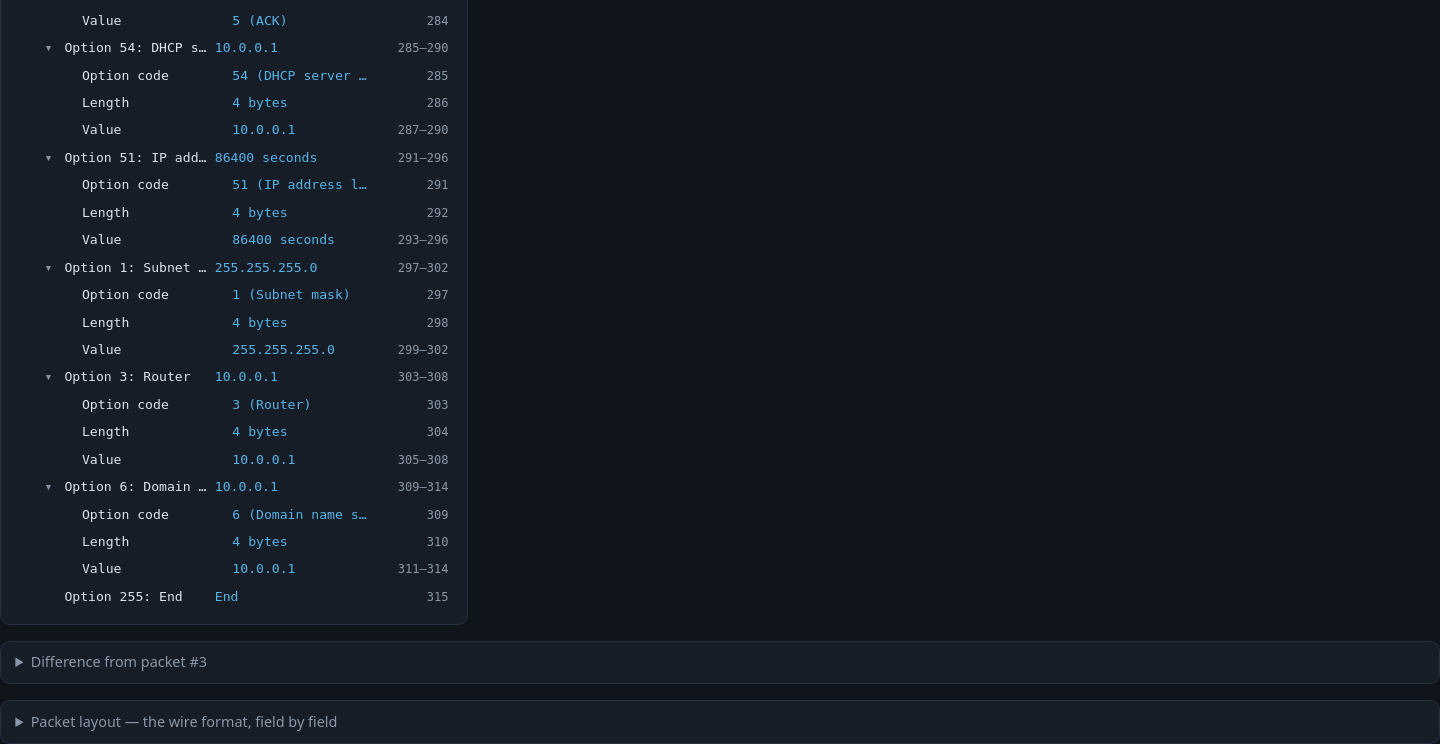
Test case: the DHCP lesson › reads the offered address out of the ACK, not out of the lesson file
(page scrolled)
Click the heading "Difference from packet #3".
click(119, 662)  # box left=31, top=652, right=207, bottom=671
(page scrolled)
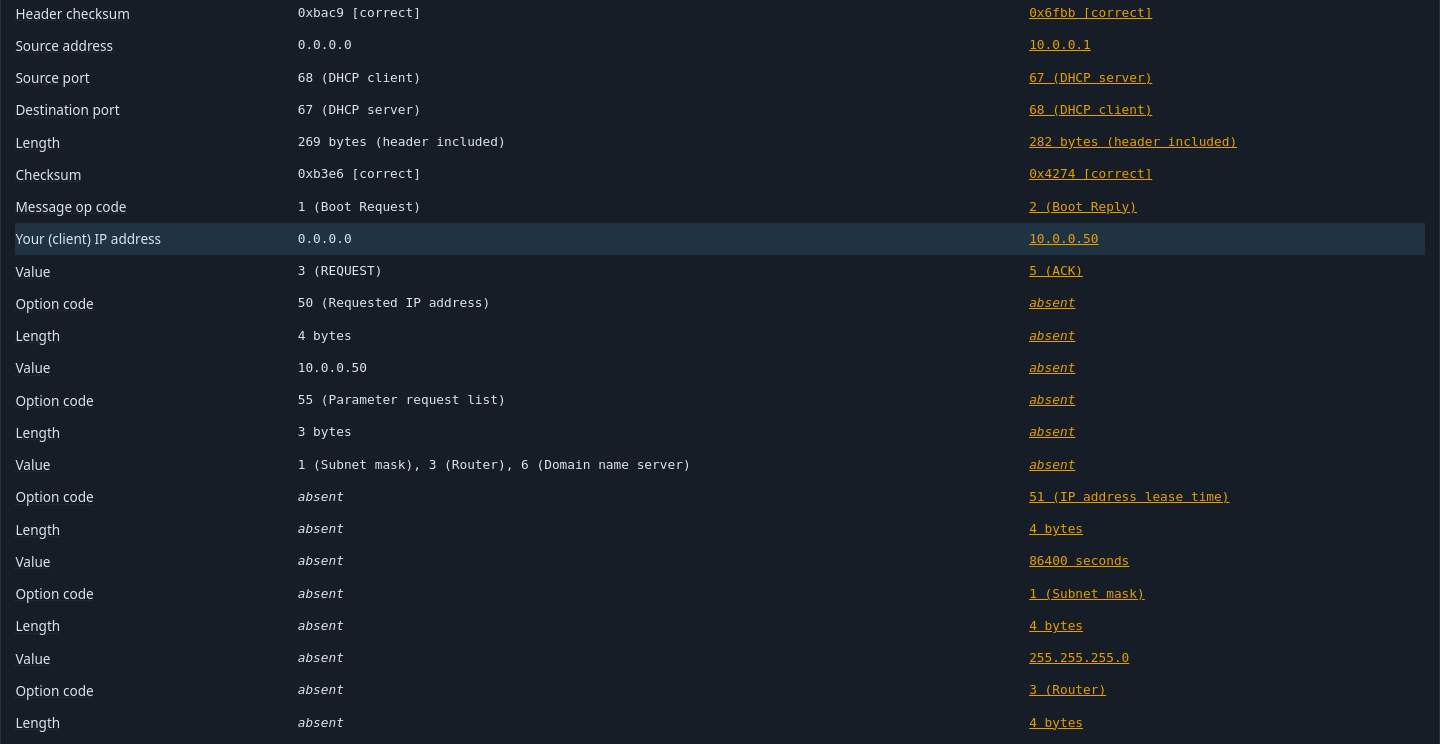
Check: the table with class "diff-table" shows "68 (DHCP client)", box left=298, top=70, right=421, bottom=85
